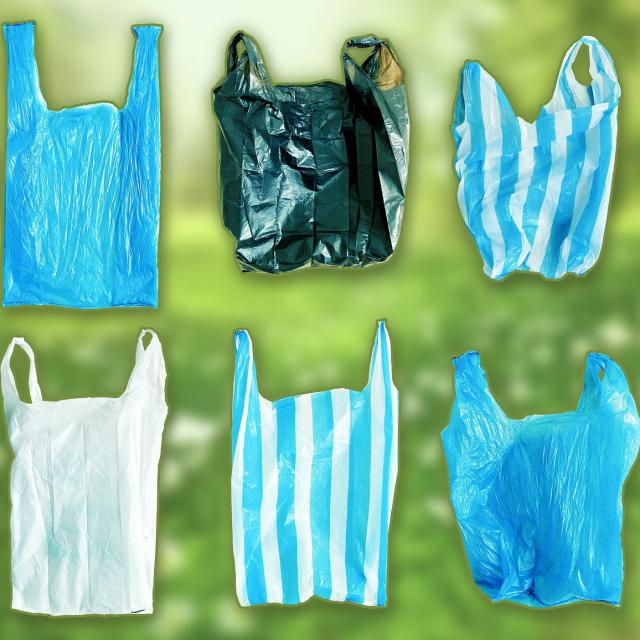Single-layer Plastic: (441, 351, 640, 608), (231, 321, 399, 606), (1, 330, 168, 616), (214, 32, 409, 272), (2, 22, 162, 309), (451, 36, 620, 279)
